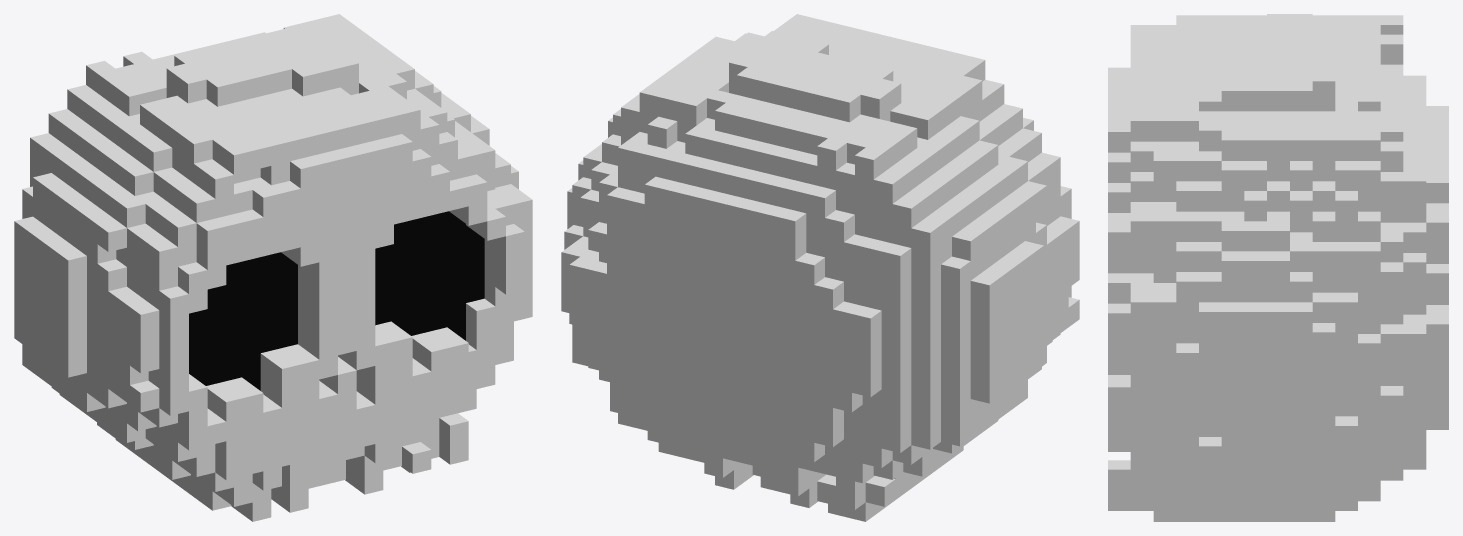
File: skull.obj
3 views of the same model, side by side, from view 1: azimuth 30°, elevation 25°; view 2: azimuth 150°, elevation 25°; view 3: azimuth 270°, elevation 25° (orthographic). The views are drawn at different scales.
Bounding box in the file's own units: 2.3 × 2 × 1.5.
Materials: 1 (1 with a texture image).
